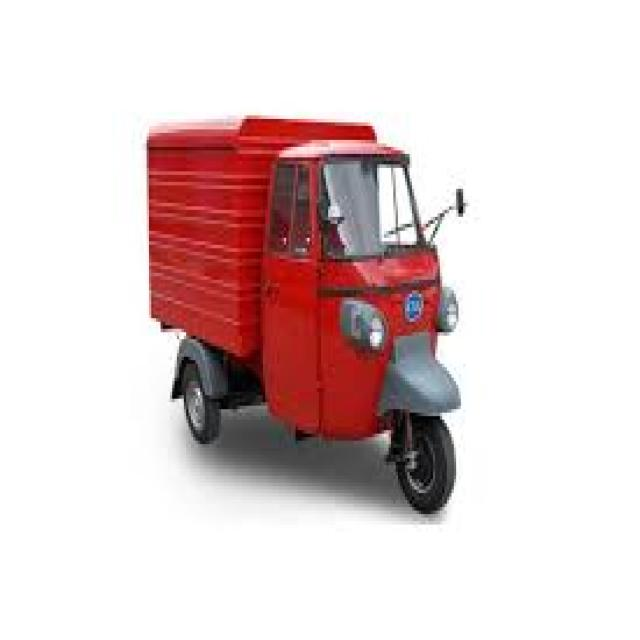tuktuk: (126, 63, 526, 543)
